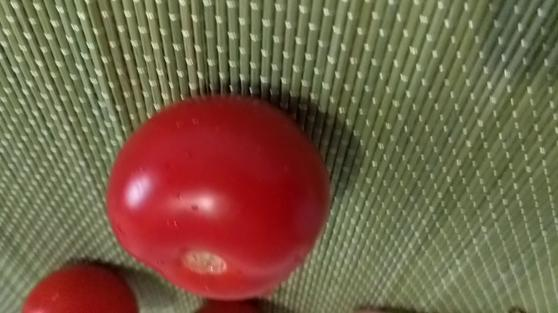tomato: (109, 88, 331, 299), (24, 260, 134, 313)
